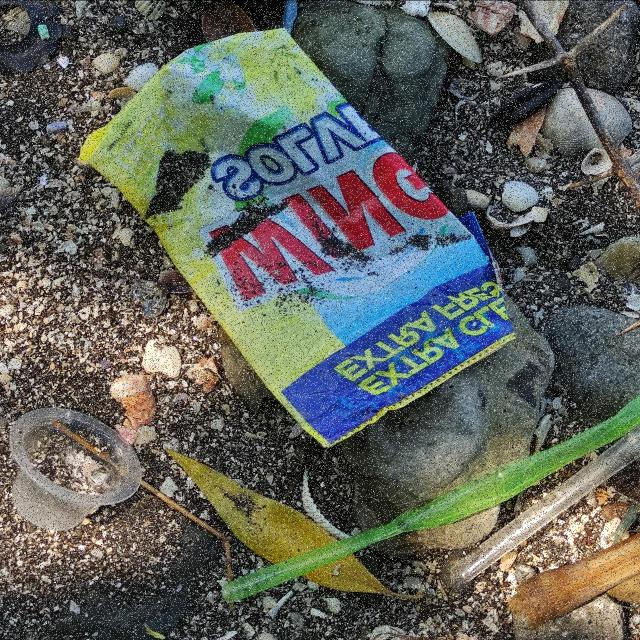plastic_waste: (79, 28, 517, 446), (219, 392, 640, 606), (7, 411, 142, 534)
